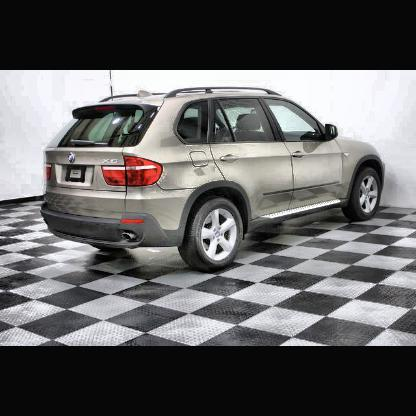BMW X5 SUV 2007: (42, 71, 387, 275)
